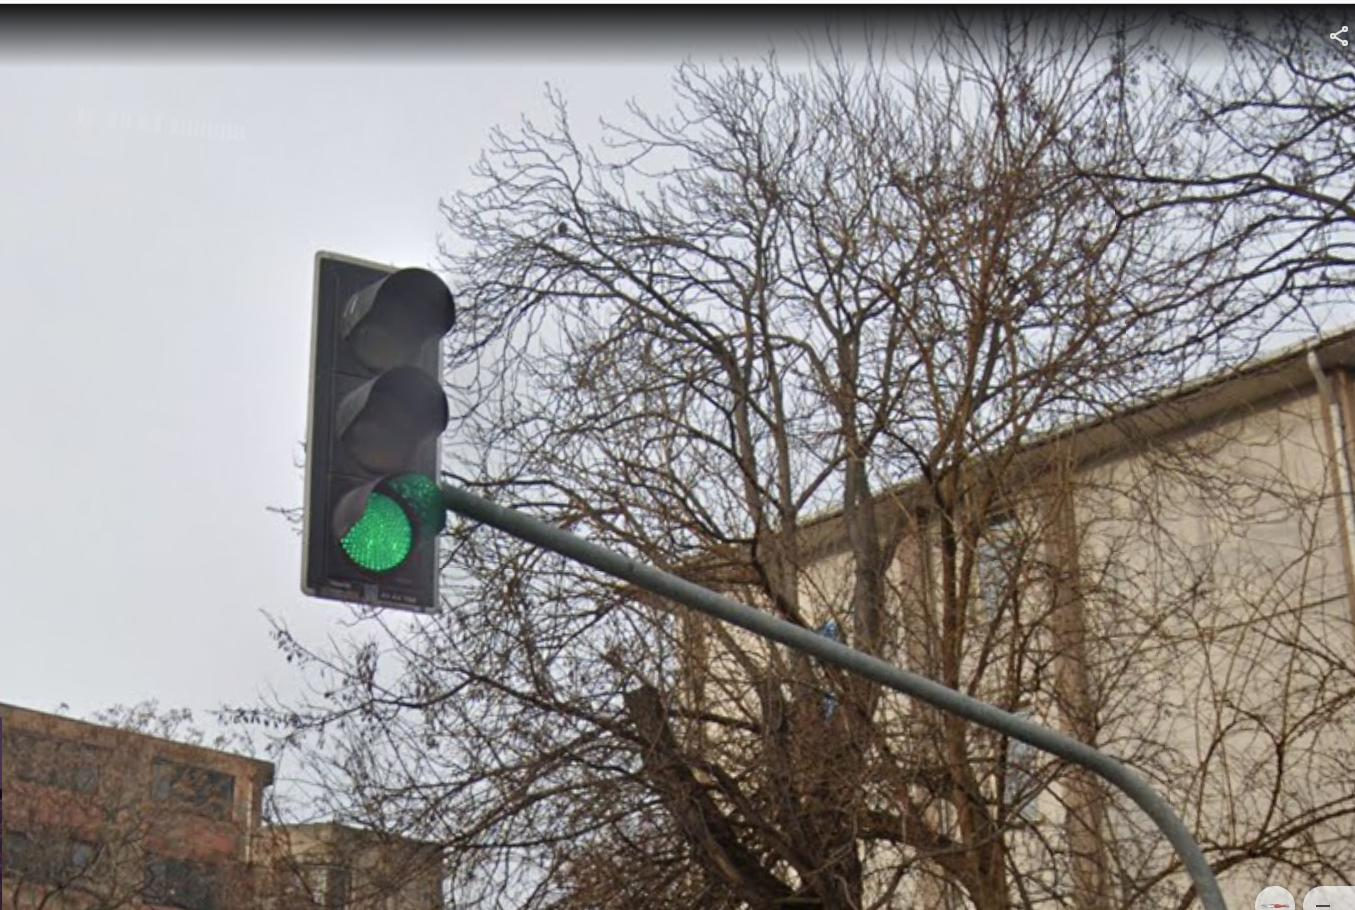greenlight: (320, 256, 434, 592)
